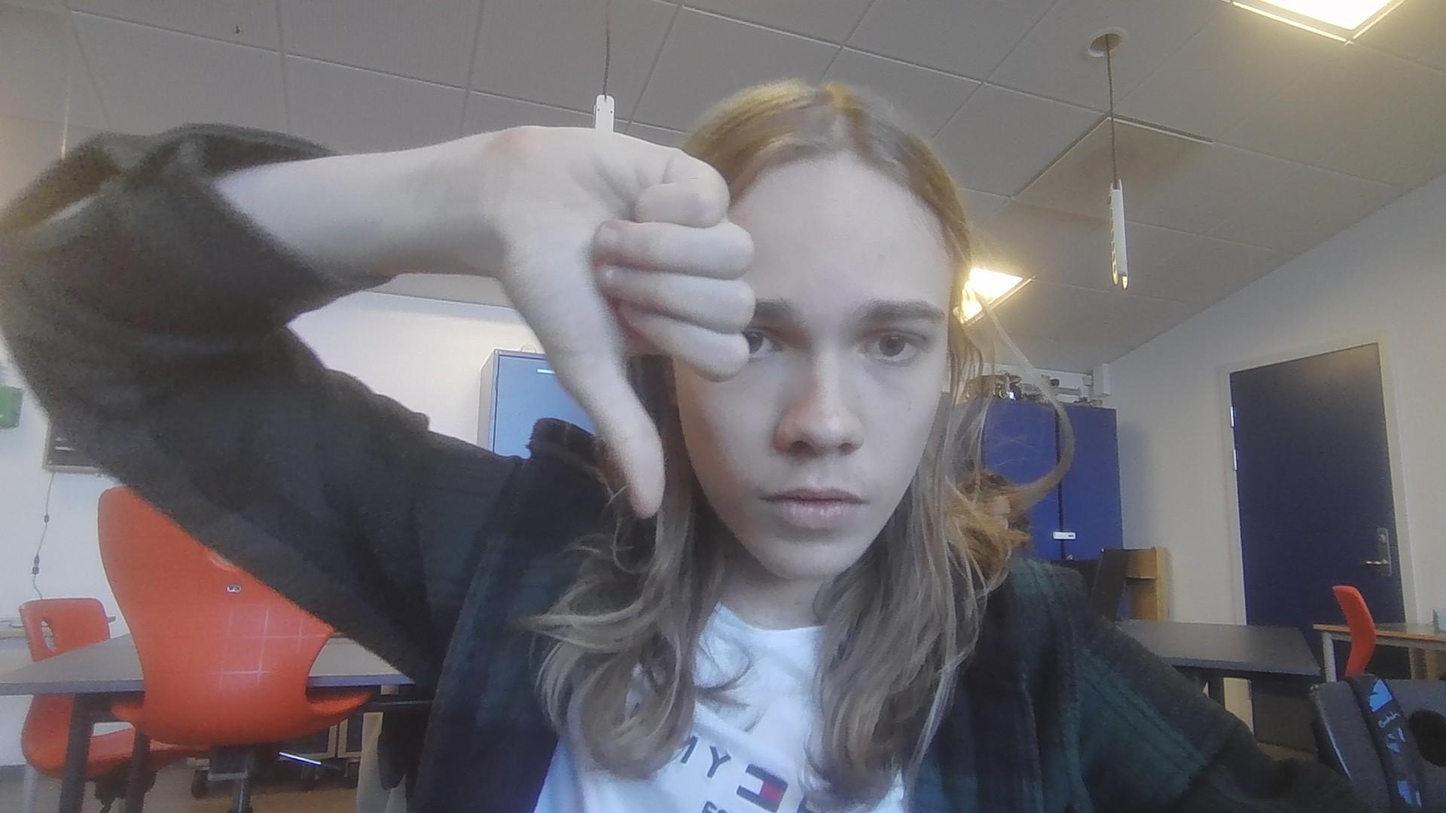thumbs down: (478, 105, 768, 512)
